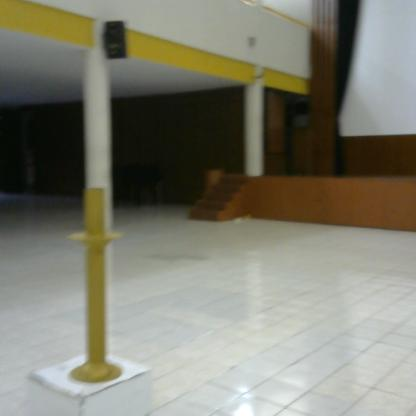pole: (67, 183, 128, 390)
